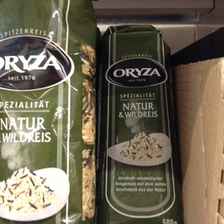rice: (1, 1, 99, 224), (98, 25, 183, 223)
